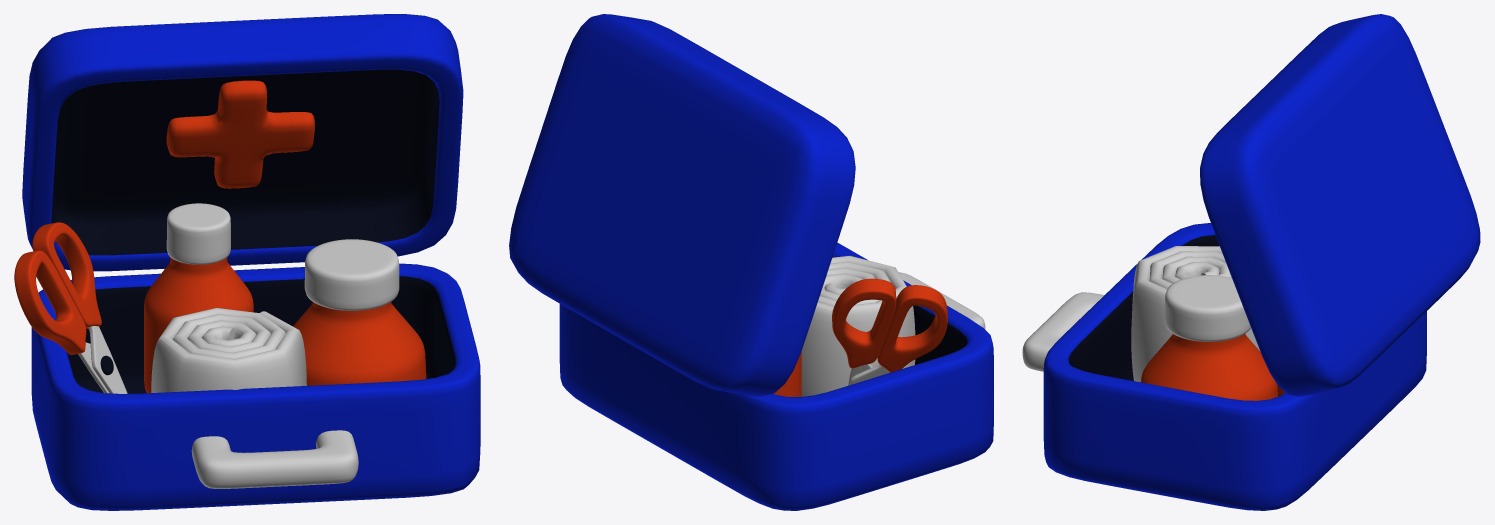
3 views of the same model, side by side, from view 1: azimuth 30°, elevation 25°; view 2: azimuth 150°, elevation 25°; view 3: azimuth 270°, elevation 25° (orthographic). The views are drawn at different scales.
Visible parts, largest first — view 1: Cube_023_Cube_017, Cube_022_Cube_016, Spiral, Plane_025_Plane_013, Cylinder_059_Cylinder_039, Plane_050, Plane_024_Plane_010, Cylinder_060_Cylinder_040, Cylinder_057_Cylinder_037, Cylinder_058_Cylinder_038, Cube_186_Cube_257; view 2: Cube_023_Cube_017, Cube_022_Cube_016, Plane_050, Spiral, Plane_024_Plane_010, Cylinder_057_Cylinder_037; view 3: Cube_023_Cube_017, Cube_022_Cube_016, Cylinder_059_Cylinder_039, Spiral, Cylinder_060_Cylinder_040, Plane_024_Plane_010.
Part boxes in pixels (bbox=[...]): Cube_023_Cube_017: bbox=[22, 14, 463, 271]; Cube_022_Cube_016: bbox=[31, 263, 480, 510]; Spiral: bbox=[151, 308, 306, 392]; Plane_025_Plane_013: bbox=[166, 80, 314, 188]; Cylinder_059_Cylinder_039: bbox=[293, 302, 426, 385]; Plane_050: bbox=[14, 222, 101, 354]; Plane_024_Plane_010: bbox=[191, 430, 358, 488]; Cylinder_060_Cylinder_040: bbox=[304, 239, 399, 310]; Cylinder_057_Cylinder_037: bbox=[144, 257, 253, 393]; Cylinder_058_Cylinder_038: bbox=[166, 203, 230, 264]; Cube_186_Cube_257: bbox=[88, 326, 127, 393]; Cube_023_Cube_017: bbox=[509, 14, 855, 396]; Cube_022_Cube_016: bbox=[559, 242, 993, 510]; Plane_050: bbox=[832, 278, 947, 372]; Spiral: bbox=[801, 255, 915, 396]; Plane_024_Plane_010: bbox=[898, 272, 985, 329]; Cylinder_057_Cylinder_037: bbox=[773, 351, 801, 396]; Cube_023_Cube_017: bbox=[1200, 14, 1480, 396]; Cube_022_Cube_016: bbox=[1043, 223, 1426, 510]; Cylinder_059_Cylinder_039: bbox=[1140, 333, 1277, 400]; Spiral: bbox=[1131, 246, 1260, 382]; Cylinder_060_Cylinder_040: bbox=[1165, 275, 1250, 341]; Plane_024_Plane_010: bbox=[1022, 292, 1104, 371].
Size of the model in its own units: 5.13 by 4.32 by 4.94.
